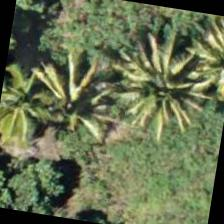Kelapa_Sawit: (4, 53, 107, 156), (94, 25, 196, 128), (0, 39, 68, 138), (176, 11, 223, 103)
